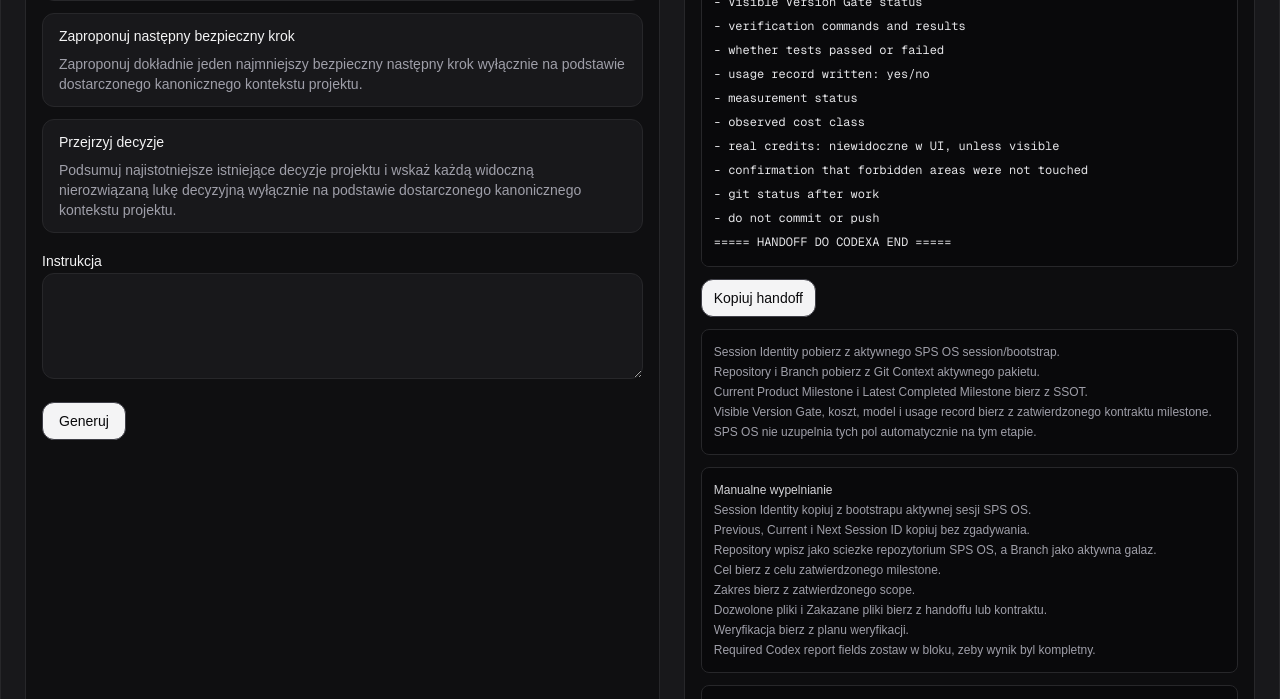
Test: ProjectAiWorkspacePage › save to knowledge uses only the latest generated exchange after multiple successful generations
(page scrolled)
Type "First instruction" into the text box labelled "Instrukcja" at point(342, 326), box [42, 273, 643, 379]
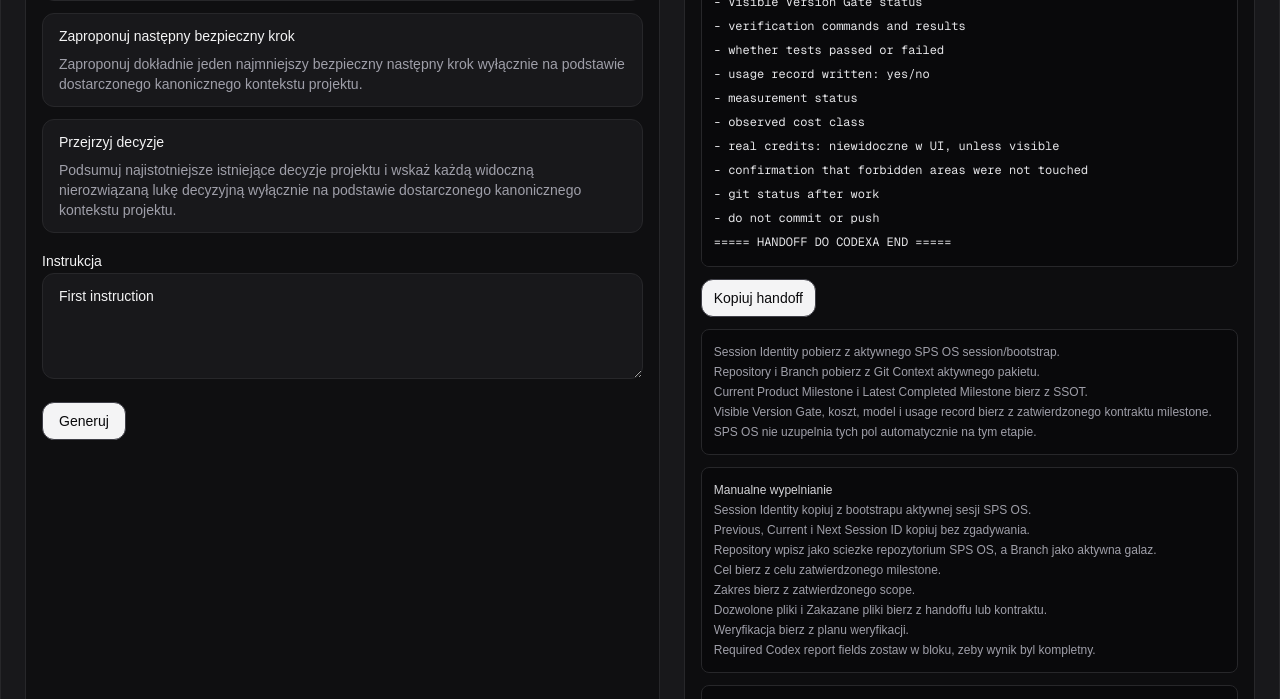
Click the button "Generuj" at point(84, 421), box [42, 402, 126, 440]
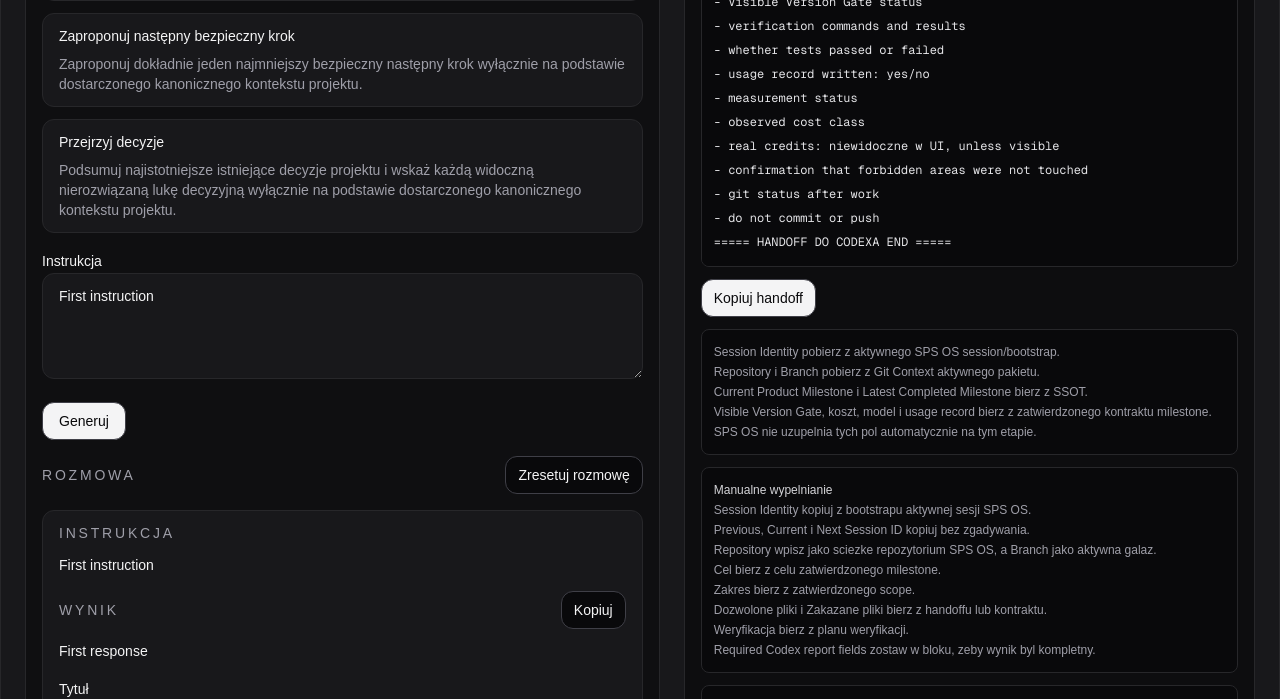
Expected: the text "First response" is shown, [59, 643, 148, 659]
Replace the text in the text box labelled "Instrukcja" with "Second instruction" at point(342, 326), box [42, 273, 643, 379]
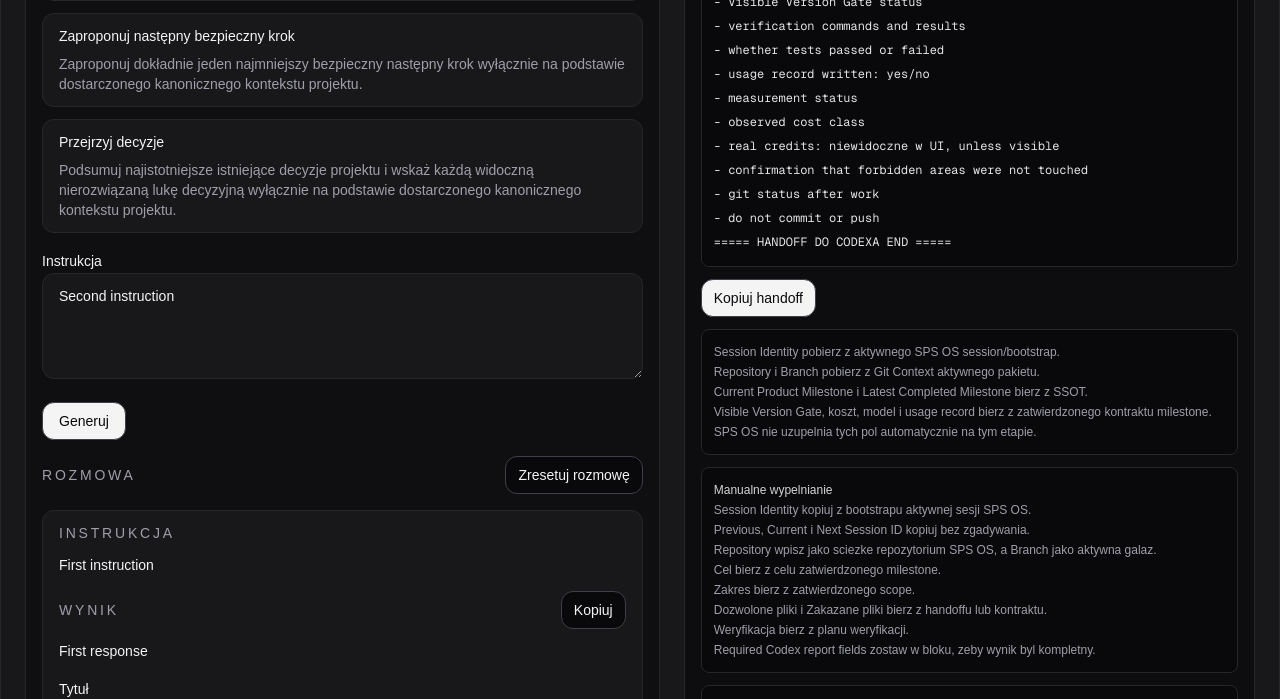
Click the button "Generuj" at point(84, 421), box [42, 402, 126, 440]
(page scrolled)
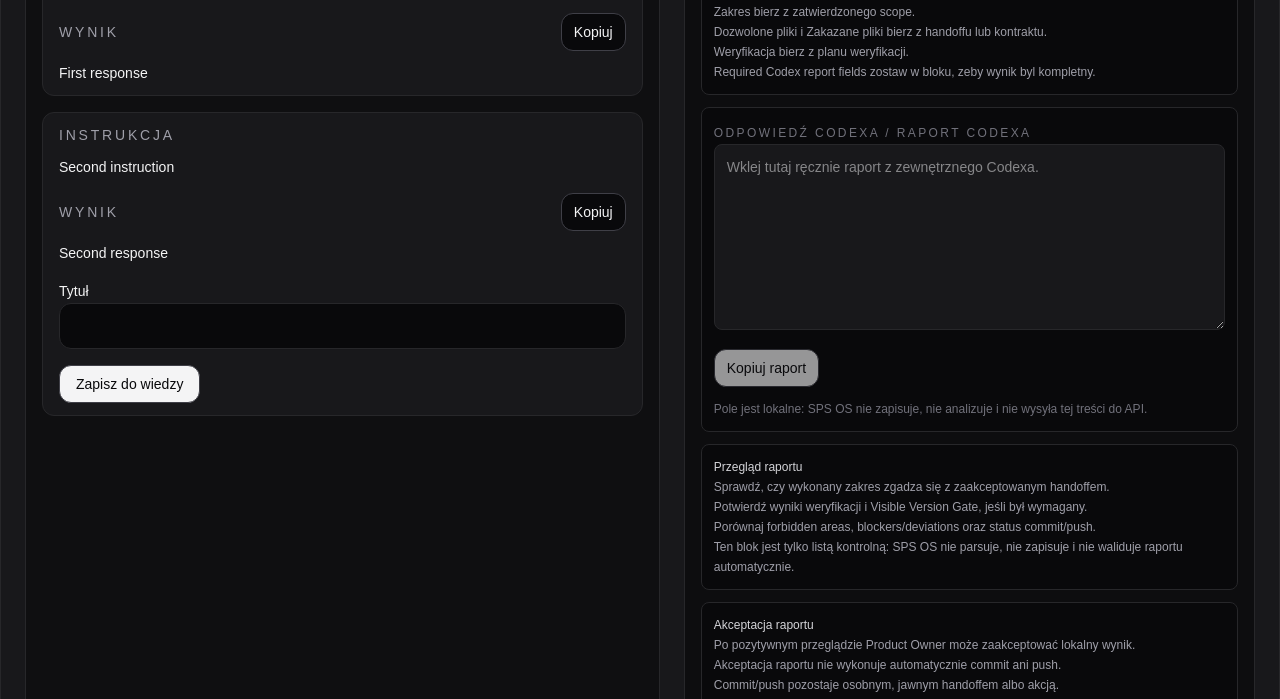
Expected: the text "Second response" is shown, [59, 245, 168, 261]
Type "Latest note" into the field labelled "Tytuł" at point(342, 326), box [59, 303, 626, 349]
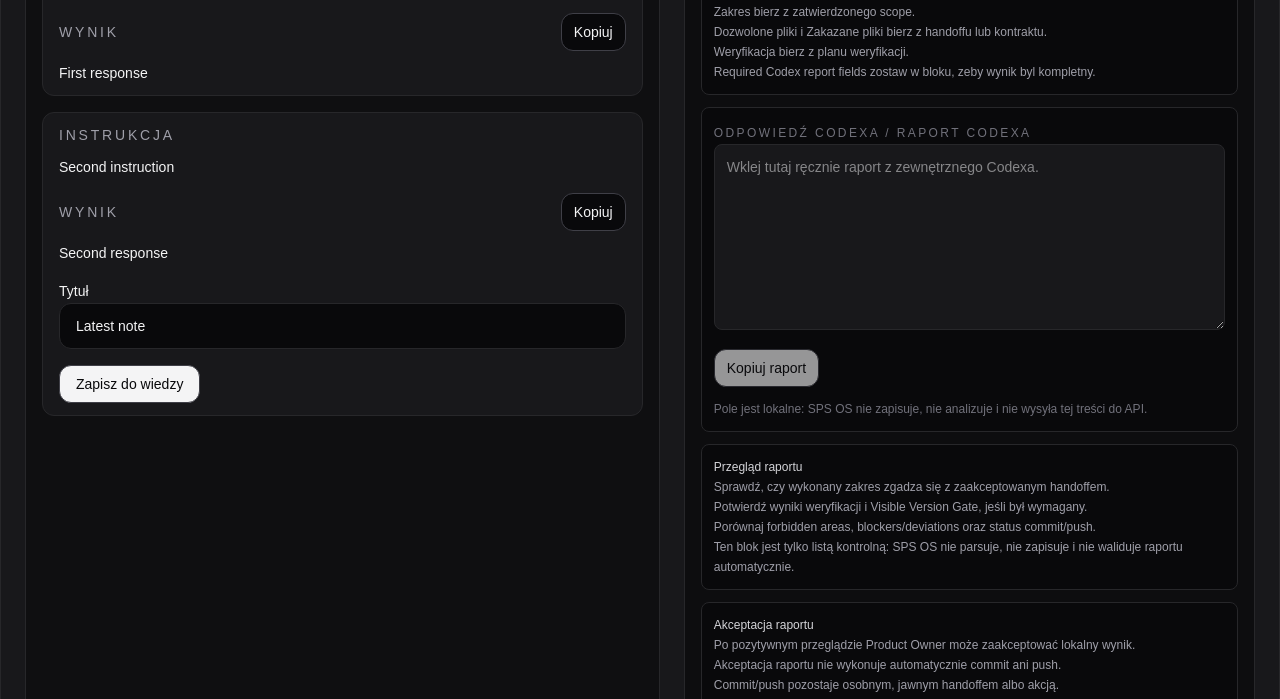
Click the button "Zapisz do wiedzy" at point(130, 384), box [59, 365, 200, 403]
(page scrolled)
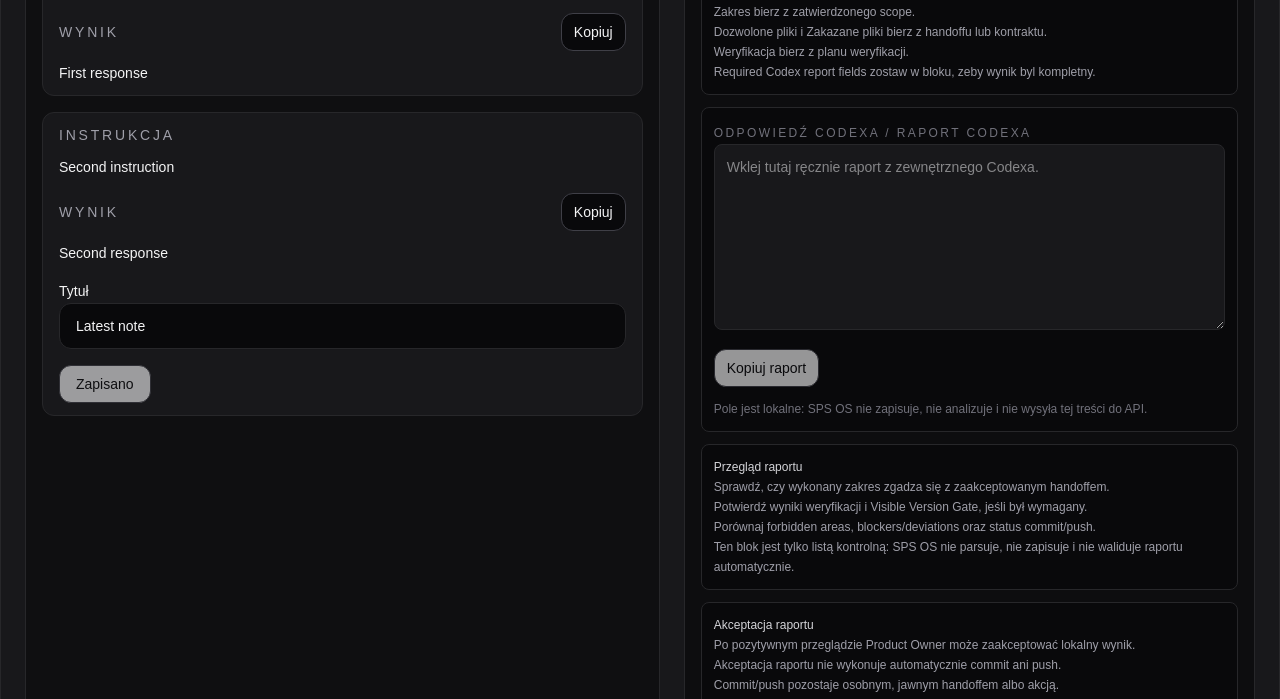
Expected: the text "First response" is shown, [59, 65, 148, 81]
Expected: the button "Zapisano" is shown, [59, 365, 151, 403]
